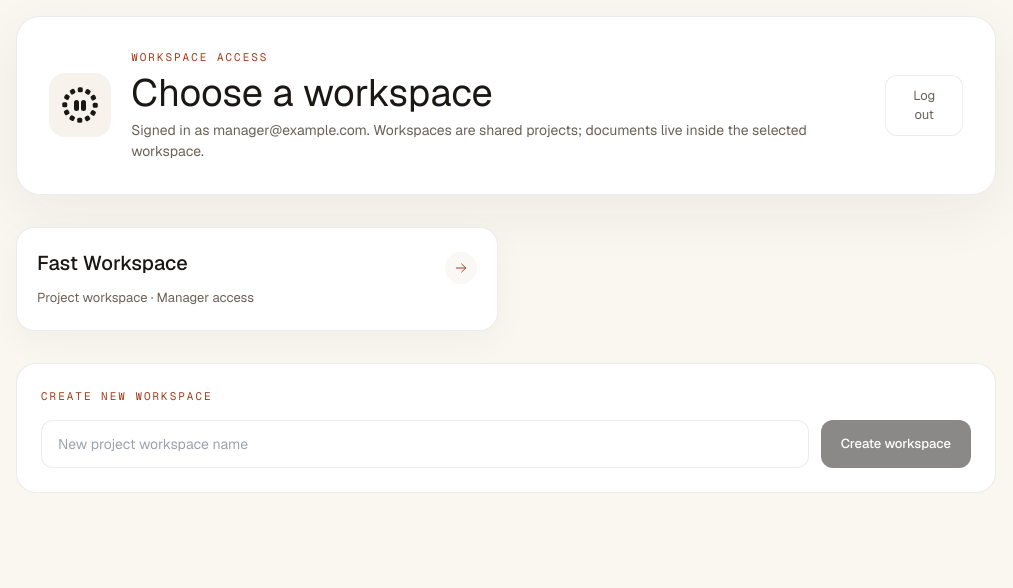
Scenario: WorkspacesPage performance › shows a failed sign-out without abandoning the workspace chooser
This screenshot has width=1013, height=588.
Step 1. Click the button "Log out" → {"x": 924, "y": 105}, box [885,75,963,136]
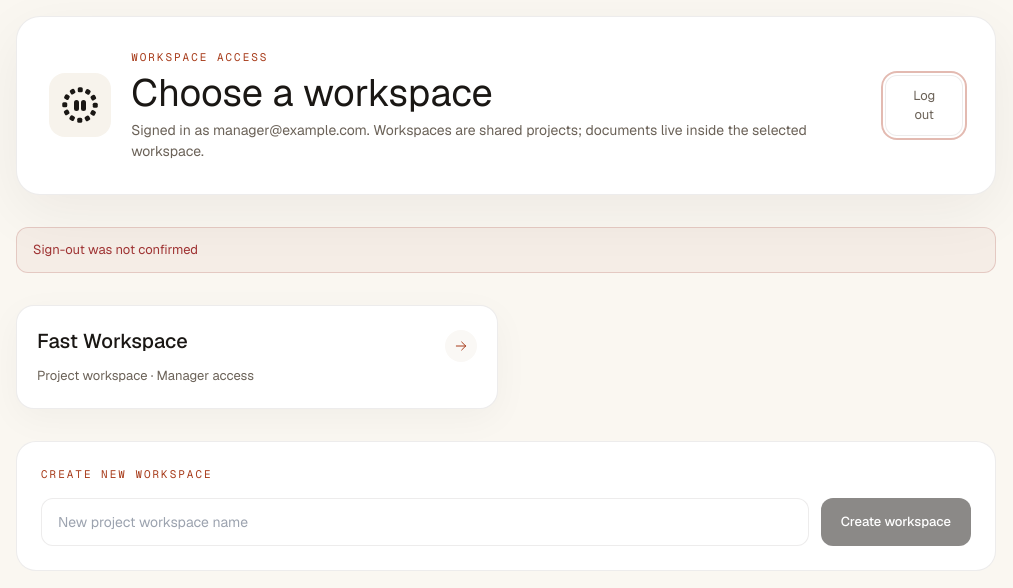
Expected: the heading "Choose a workspace" is shown, [131,68,493,116]
Now the message reads "Sign-out was not confirmed", box [33,240,198,258]
